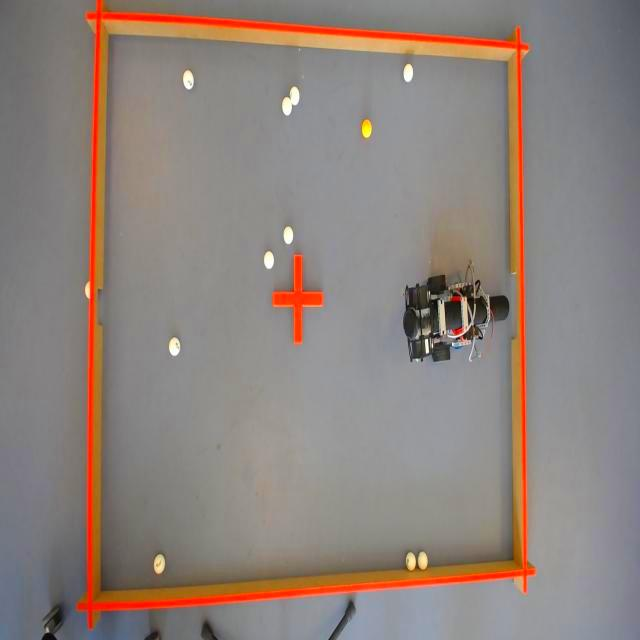orange-golf-balls: (362, 118, 372, 137)
robot: (403, 260, 510, 361)
white-golf-balls: (182, 68, 194, 89), (153, 554, 165, 575), (168, 336, 180, 356), (289, 84, 300, 104), (406, 552, 417, 572), (418, 551, 429, 571), (282, 95, 292, 114), (404, 62, 414, 80), (264, 250, 274, 268), (284, 225, 293, 243)
